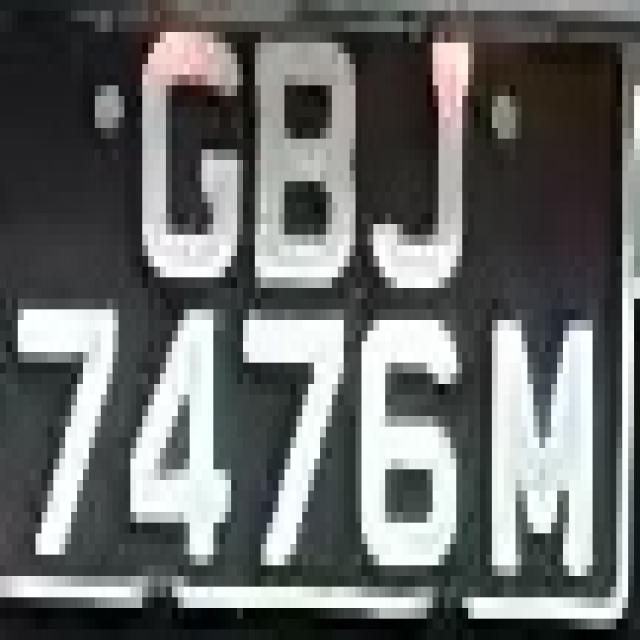4: (113, 288, 237, 608)
6: (338, 288, 480, 608)
7: (231, 245, 344, 598), (6, 256, 118, 587)
B: (243, 11, 367, 309)
G: (130, 11, 249, 309)
J: (356, 11, 480, 309)
M: (492, 267, 604, 576)
